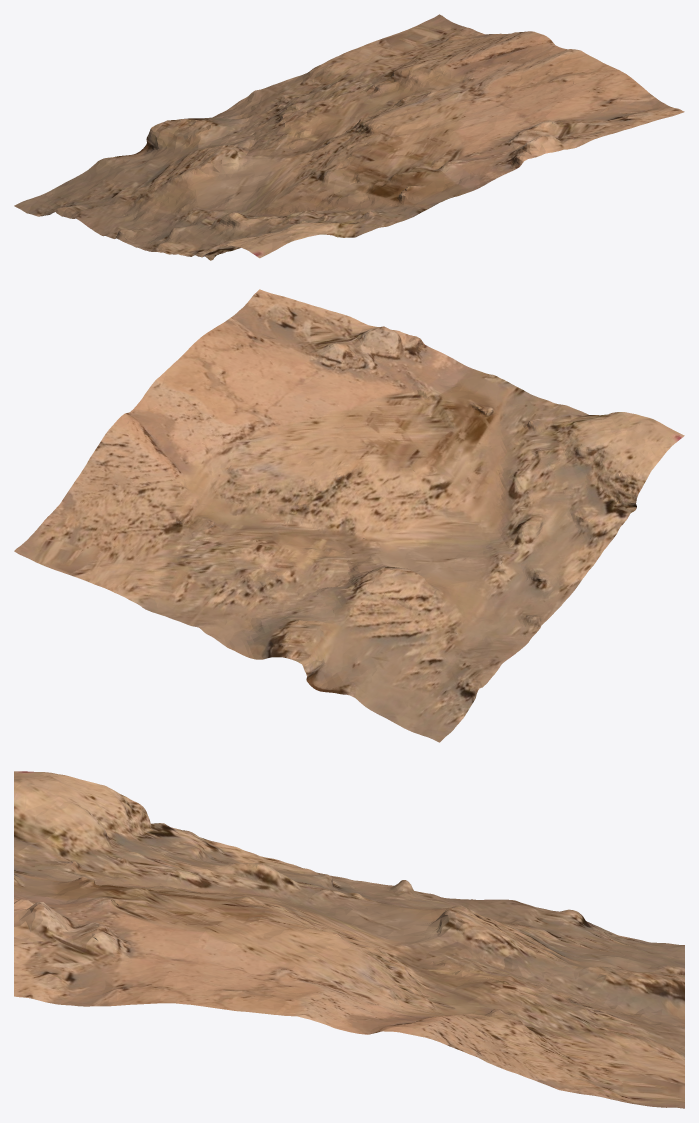
The picture shows the model from 3 angles, top to bottom: view 1: azimuth 30°, elevation 25°; view 2: azimuth 150°, elevation 25°; view 3: azimuth 270°, elevation 25°; orthographic projection. The views are drawn at different scales.
Bounding box in the file's own units: 4.18 × 1.61 × 4.18.
Materials: 2 (2 with a texture image).
